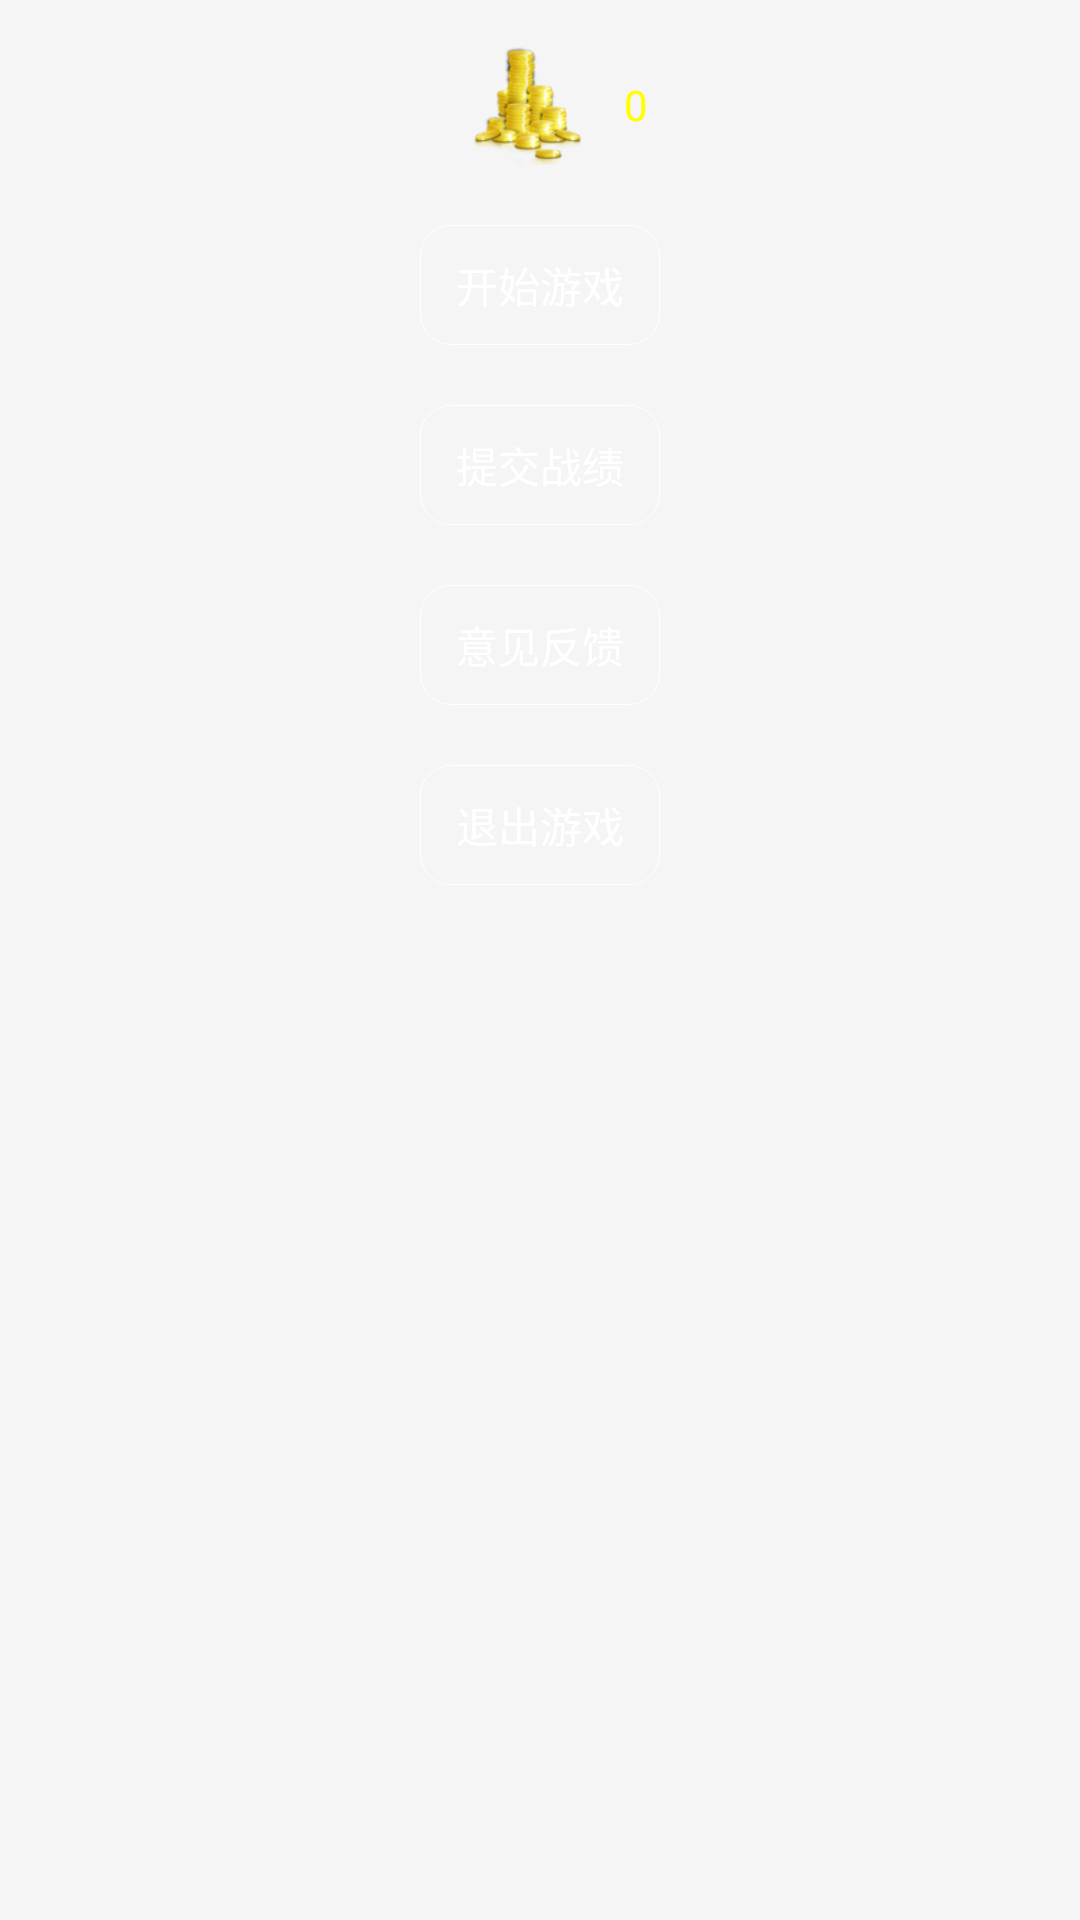

Icons on this 1080×1920 Android screen, each with its box as (x1, y1, x2, y2):
point: (475, 48, 581, 164)
